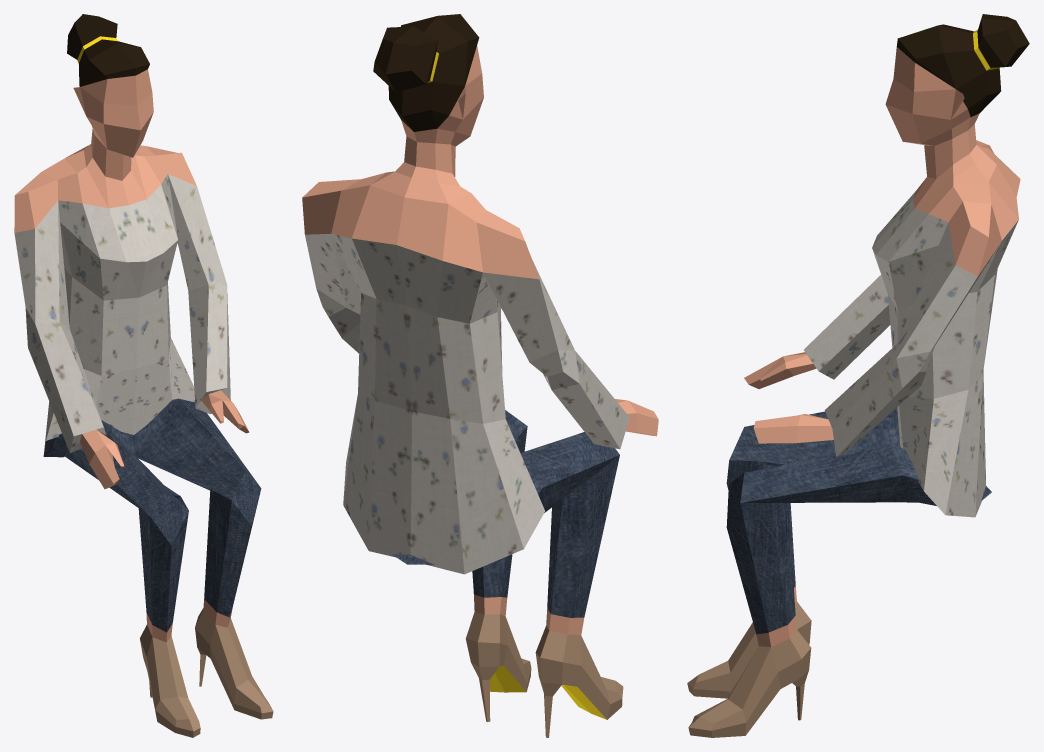
The model's file is SpringWomanA.009.glb.
3 views of the same model, side by side, from view 1: azimuth 30°, elevation 25°; view 2: azimuth 150°, elevation 25°; view 3: azimuth 270°, elevation 25° (orthographic). The views are drawn at different scales.
Parts seen in each view (by area): view 1: SpringWomanA.010; view 2: SpringWomanA.010; view 3: SpringWomanA.010.
Part boxes in pixels (x1,y1,x2,y2): SpringWomanA.010: (14,14,273,737); SpringWomanA.010: (302,14,658,737); SpringWomanA.010: (687,14,1029,737).
Size of the model in its own units: 0.4624 by 1.36 by 0.6091.
1 material, 1 textured.
